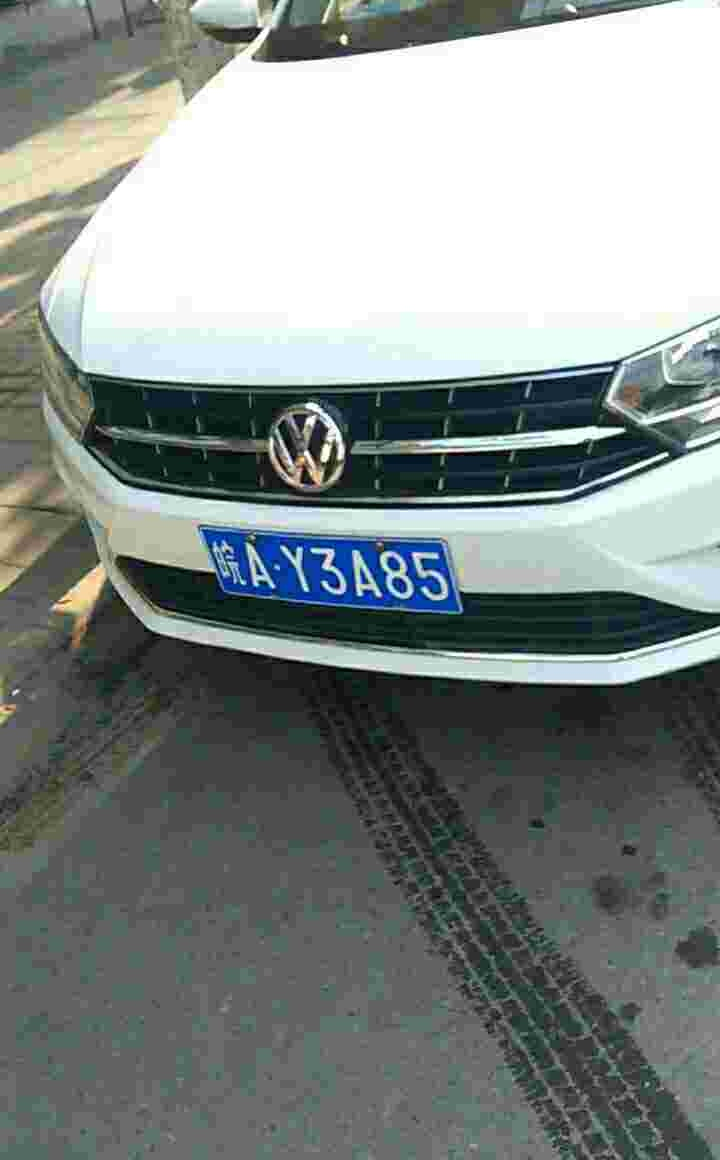license_plate: (206, 527, 466, 623)
